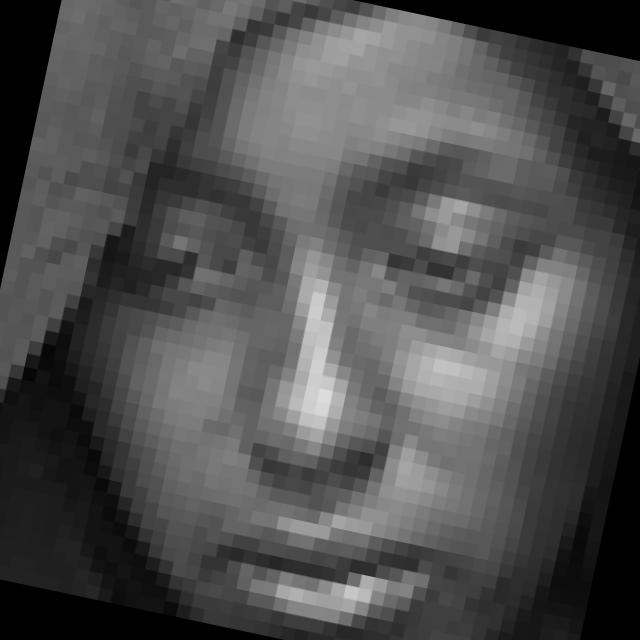sad: (53, 79, 586, 640)
